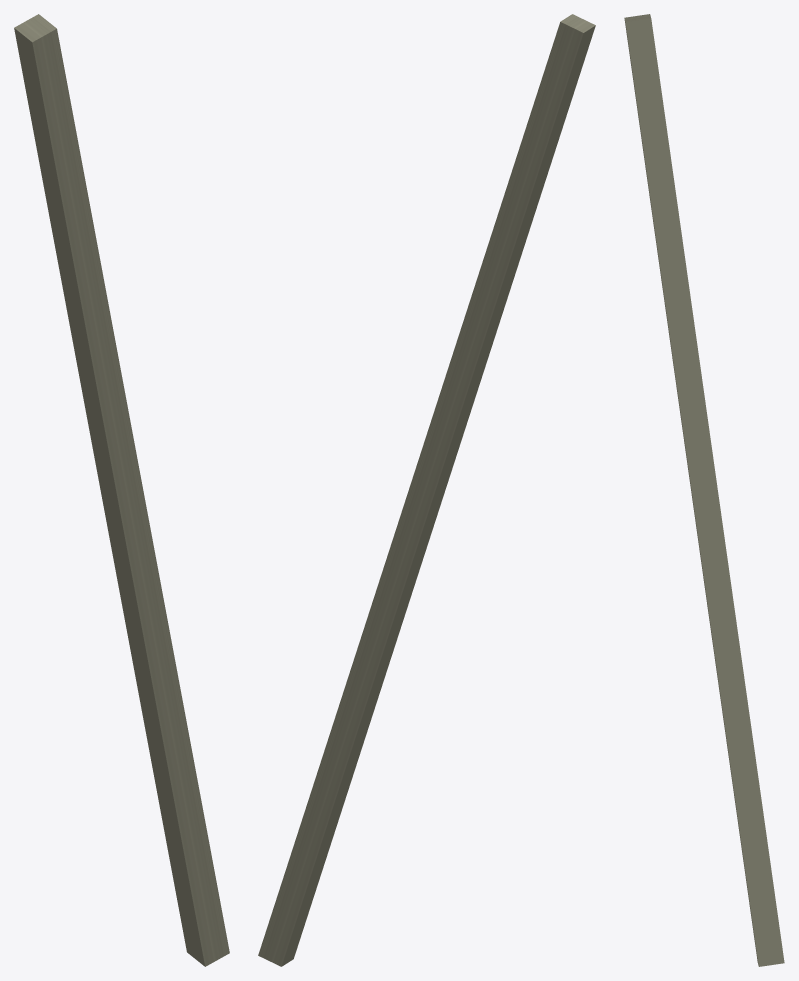
File: Harpoon.glb
3 views of the same model, side by side, from view 1: azimuth 30°, elevation 25°; view 2: azimuth 150°, elevation 25°; view 3: azimuth 270°, elevation 25° (orthographic). The views are drawn at different scales.
Parts seen in each view (by area): view 1: Evils Harpoon; view 2: Evils Harpoon; view 3: Evils Harpoon.
Boxes of the visible parts, left/top/right/bottom form: Evils Harpoon: left=14, top=14, right=229, bottom=966; Evils Harpoon: left=258, top=14, right=595, bottom=966; Evils Harpoon: left=624, top=14, right=784, bottom=966.
Bounding box in the file's own units: 0.4088 × 1.46 × 0.2484.
Materials: 1 (1 with a texture image).
